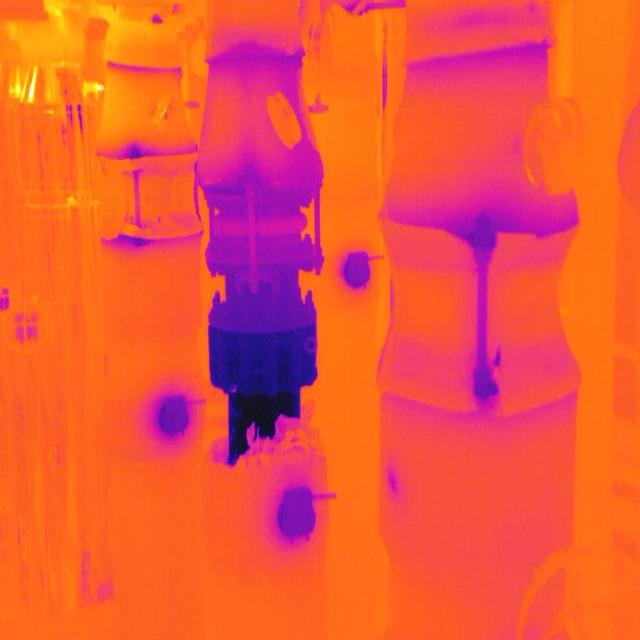leakage: (375, 461, 402, 497)
